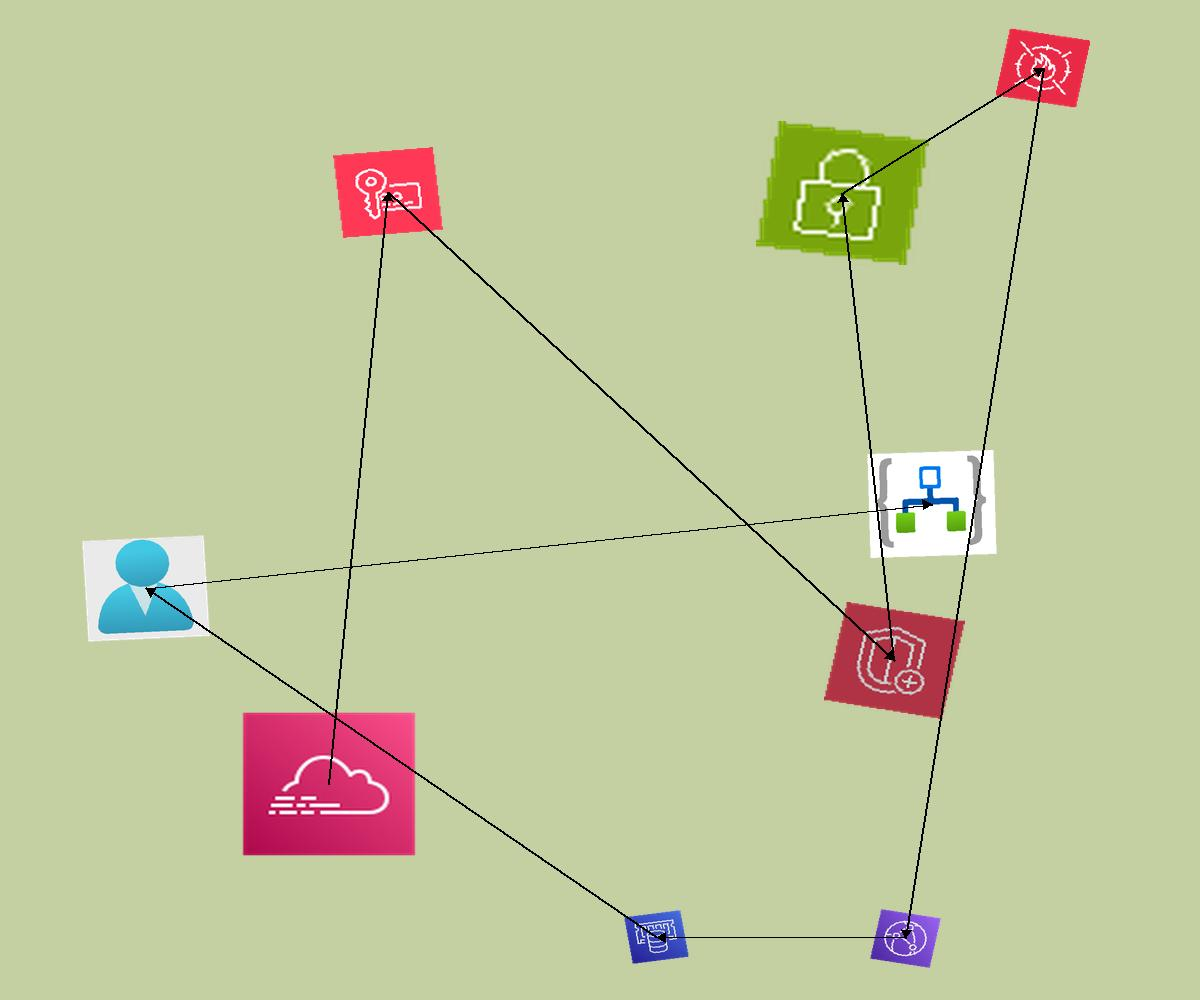AWS-CloudFront: (870, 909, 941, 968)
AWS-CloudTrail: (241, 711, 417, 857)
AWS-ElastiCache: (624, 910, 689, 964)
AWS-Key-Management-Service: (333, 147, 443, 238)
AWS-Public-subnet: (756, 121, 929, 265)
AWS-Shield: (824, 602, 965, 719)
AWS-WAF: (995, 28, 1091, 108)
Azure_integration-204-Logic-Apps: (867, 450, 997, 558)
Azure_users: (82, 535, 210, 642)
